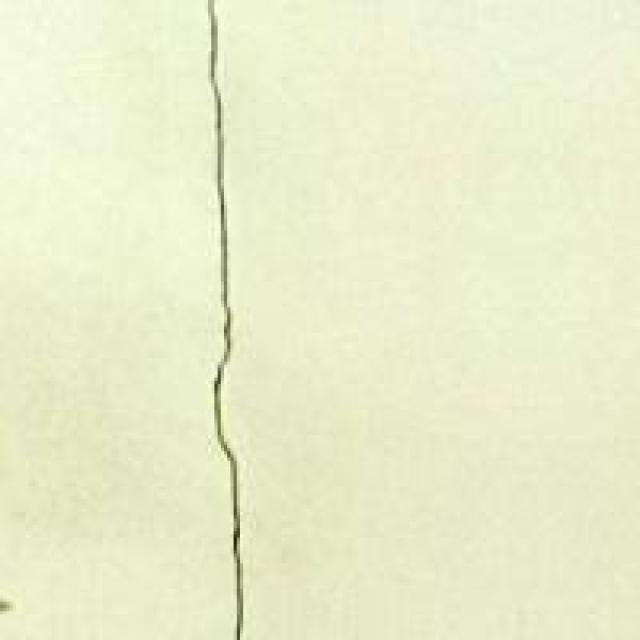crack: (150, 0, 317, 637)
